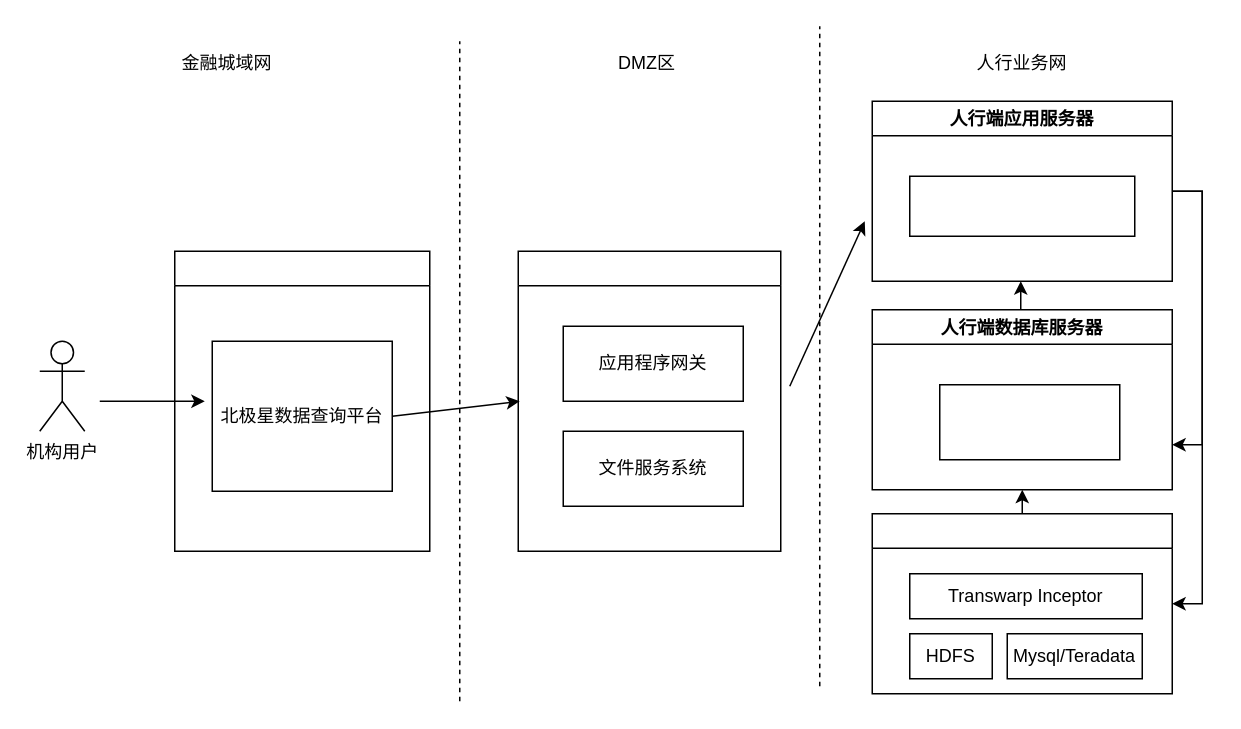
Image size: 1241x729. Some labels were removed from this diagram. The box of each missing label's shape, as (x1, y1, x2, y2) in pixels:
关系型数据库 Mysql: (938, 383, 1120, 460)
北极星平台后台 接口服务: (908, 175, 1135, 236)
星环大数据平台: (871, 512, 1172, 694)
机构前置应用服务器: (173, 250, 430, 551)
机构端应用服务器: (517, 250, 781, 551)
